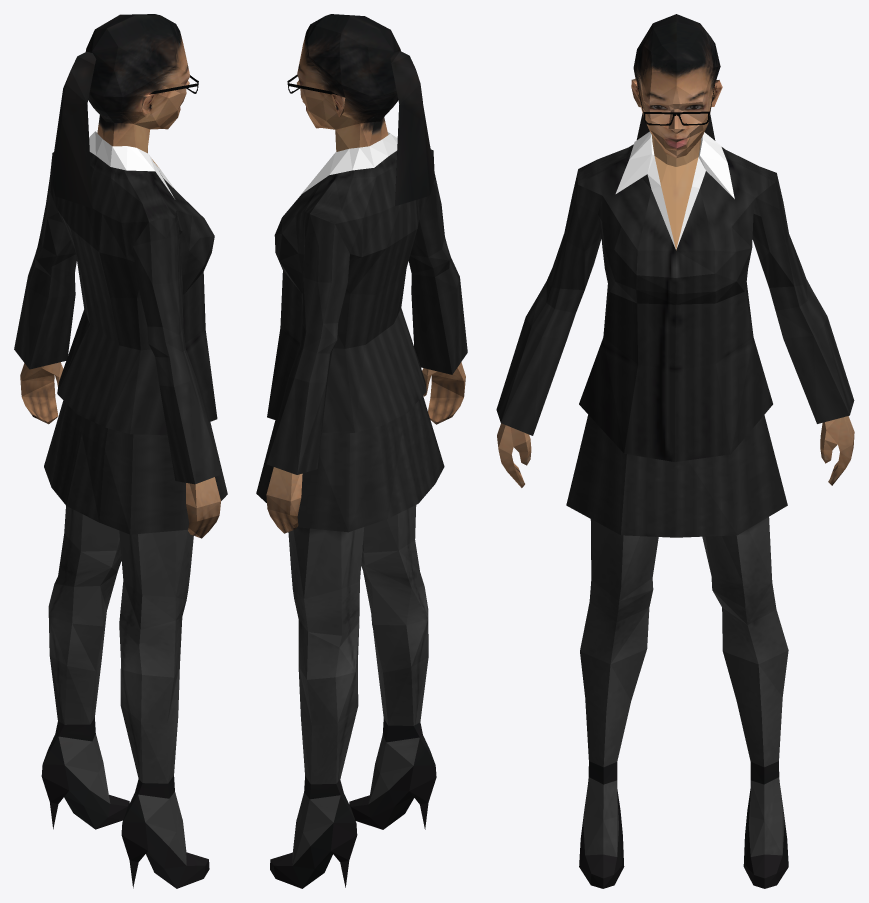
Rendered from sofybu.obj.
The picture shows the model from 3 angles, left to right: view 1: azimuth 30°, elevation 25°; view 2: azimuth 150°, elevation 25°; view 3: azimuth 270°, elevation 25°; orthographic projection. The views are drawn at different scales.
Visible parts, largest first — view 1: _Pelvis; view 2: _Pelvis; view 3: _Pelvis.
Boxes of the visible parts, left/top/right/bottom form: _Pelvis: left=14, top=14, right=227, bottom=888; _Pelvis: left=256, top=14, right=467, bottom=888; _Pelvis: left=496, top=14, right=854, bottom=888.
Bounding box in the file's own units: 0.3319 × 1.8 × 0.6866.
Materials: 2 (2 with a texture image).
